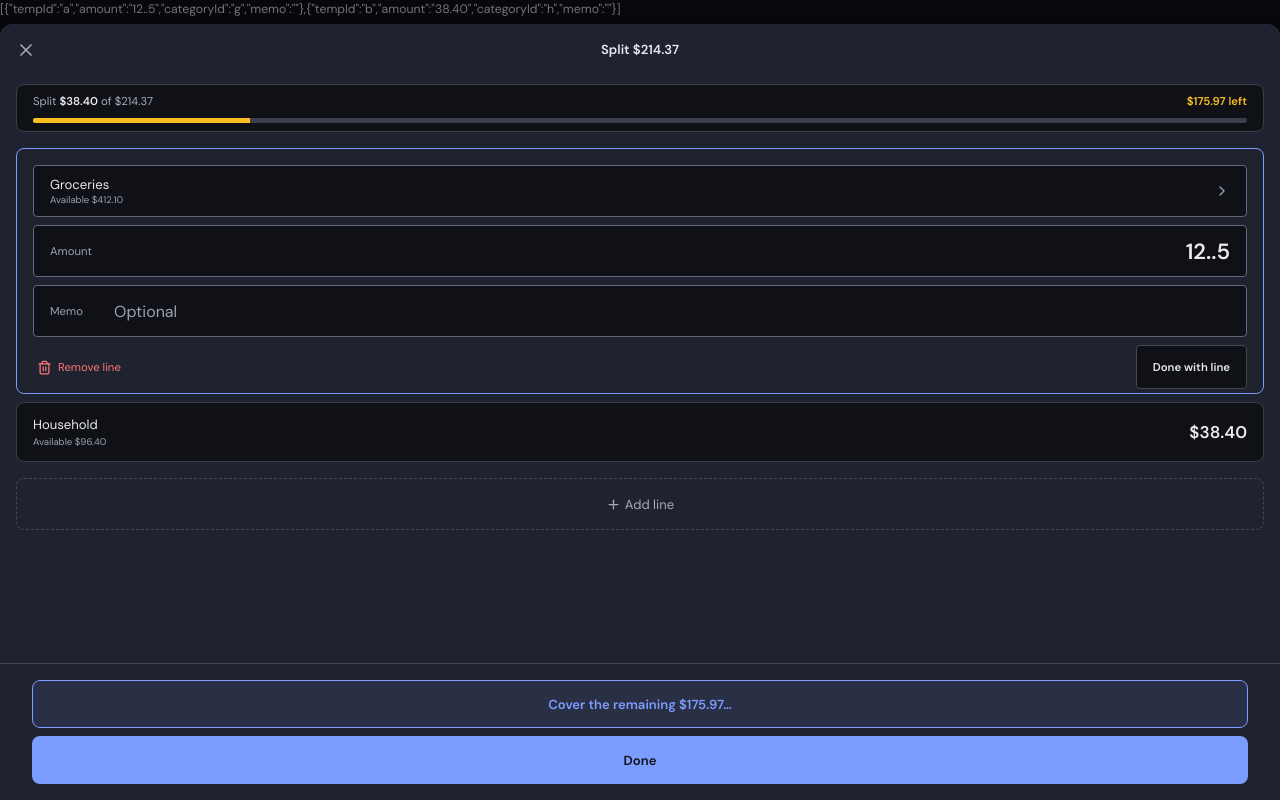
it: SplitSheet › shows an unreadable amount as typed on its folded row, not as zero
Click the button "Done with line" at coordinates (1191, 367), box 1136,345 -> 1247,389
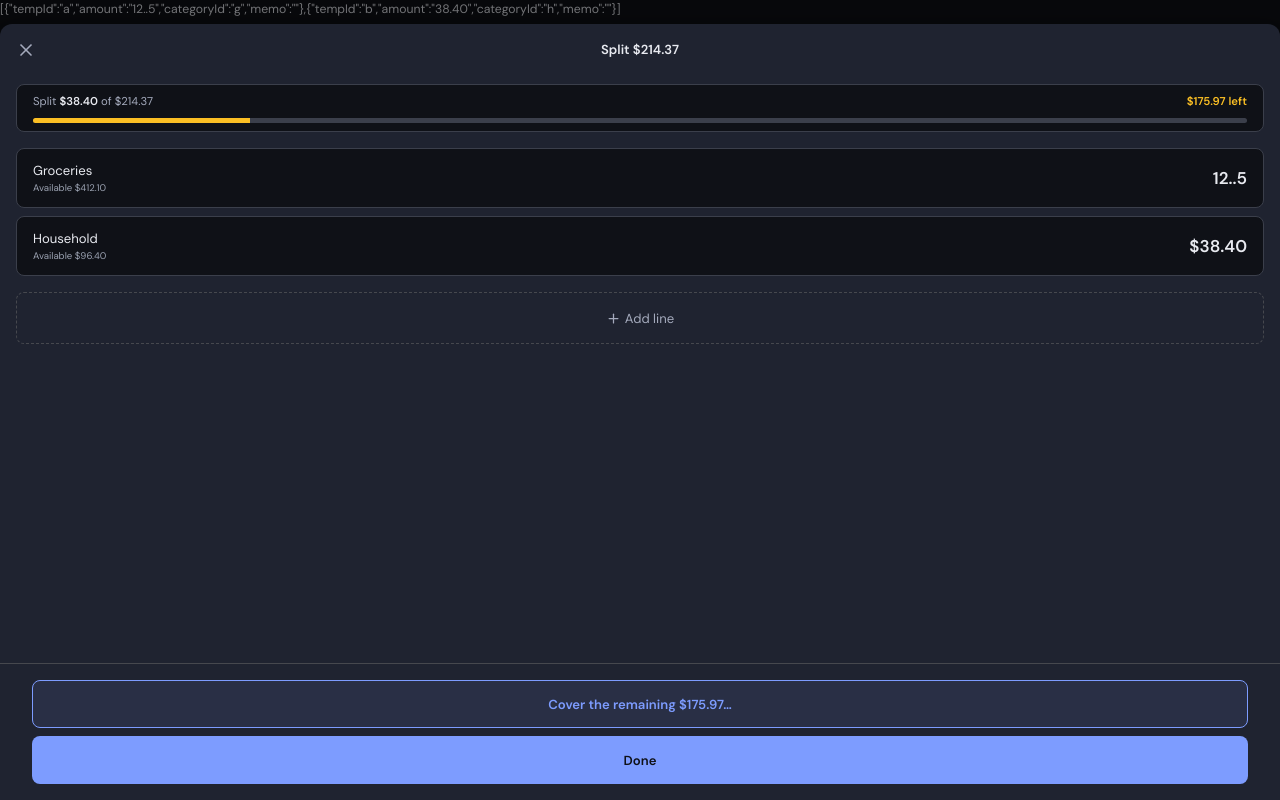
Expected: the button with aria-label "Split 1: Groceries, 12..5" is shown, 16,148 -> 1264,208
